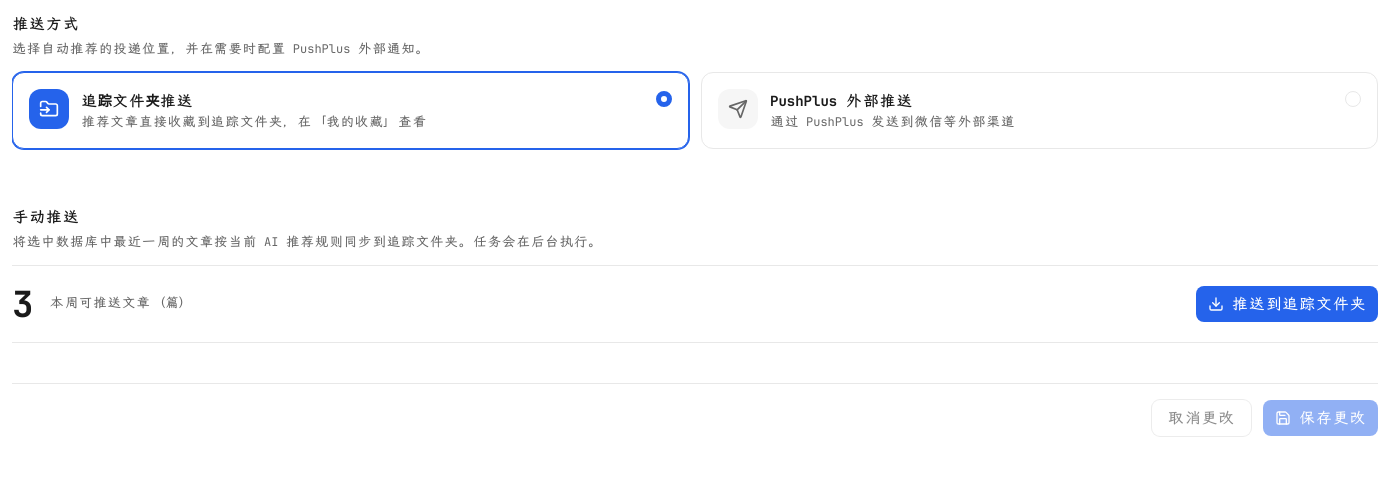
Scenario: durable tracking job flow › cancels a queued job and enables safe retry
What coordinates should you click on to do the following:
click the button "推送到追踪文件夹"
I would click on:
 (1287, 304)
Its box is [1196,286,1378,322].
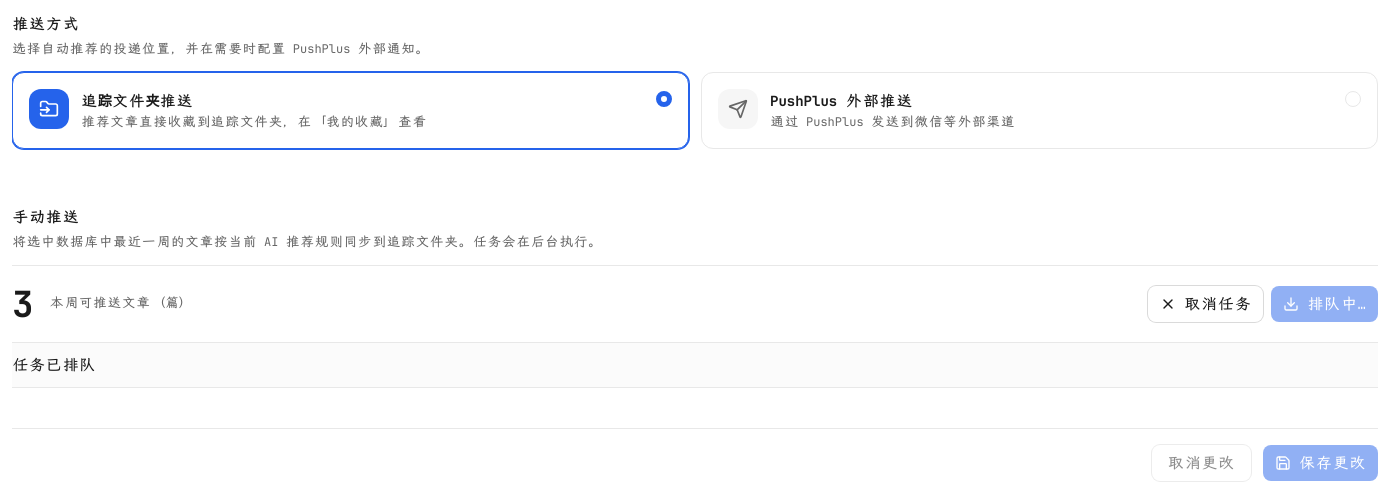
What coordinates should you click on to do the following:
click the button "取消任务"
I would click on:
 (1206, 304)
Its box is [1148,286,1263,322].
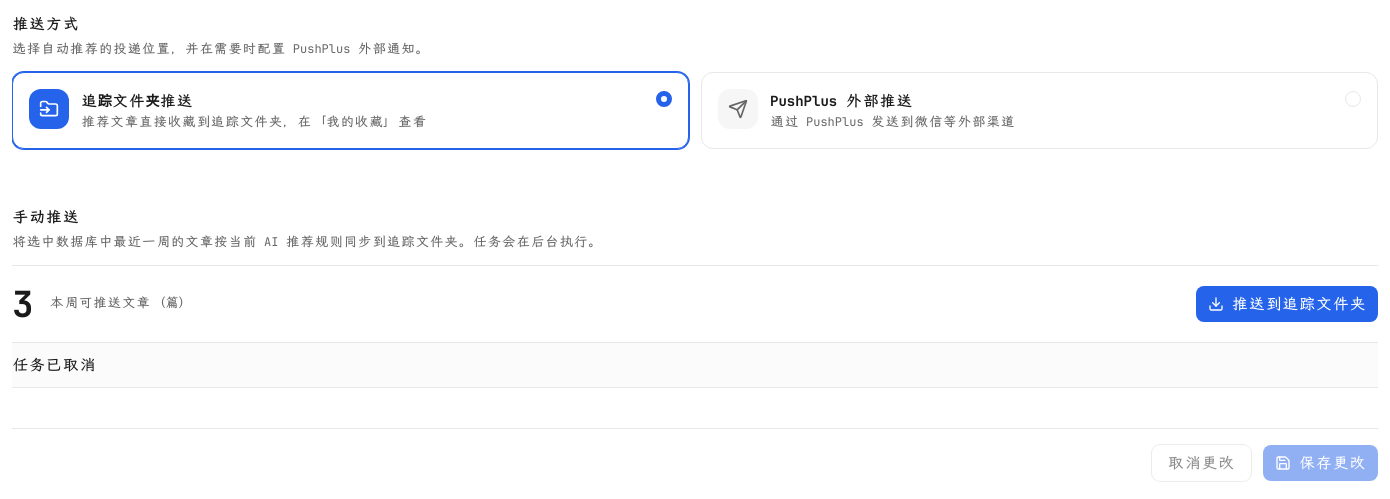
Expected: the button "推送到追踪文件夹" is enabled, [1196,286,1378,322]
